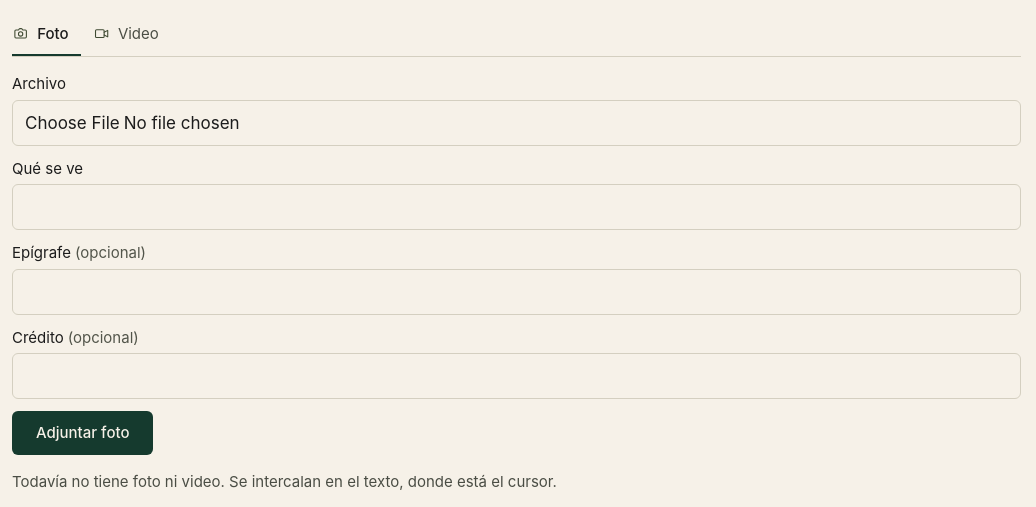
Test case: NewsMediaPanel › al elegir video, el formulario pide un video
The width and height of the screenshot is (1036, 507).
Click the tab "Video": coordinates (126, 34) top-left (81, 12), bottom-right (171, 56)
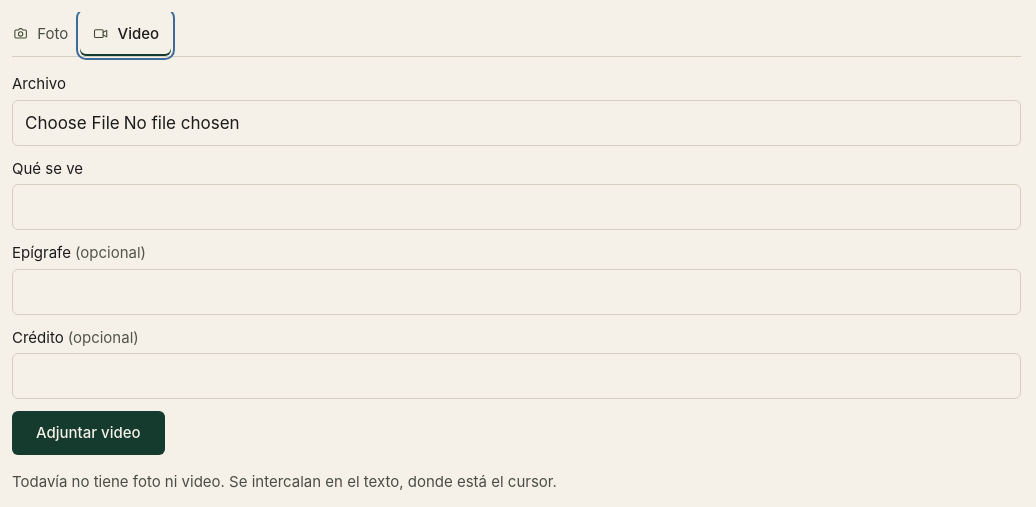
Now the button "Adjuntar video" is shown, box top-left (12, 411), bottom-right (165, 455)
